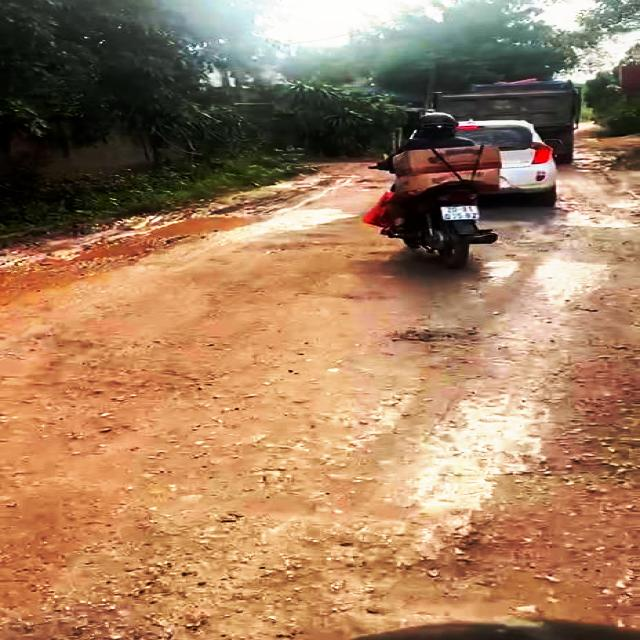pothole: (64, 212, 278, 266)
